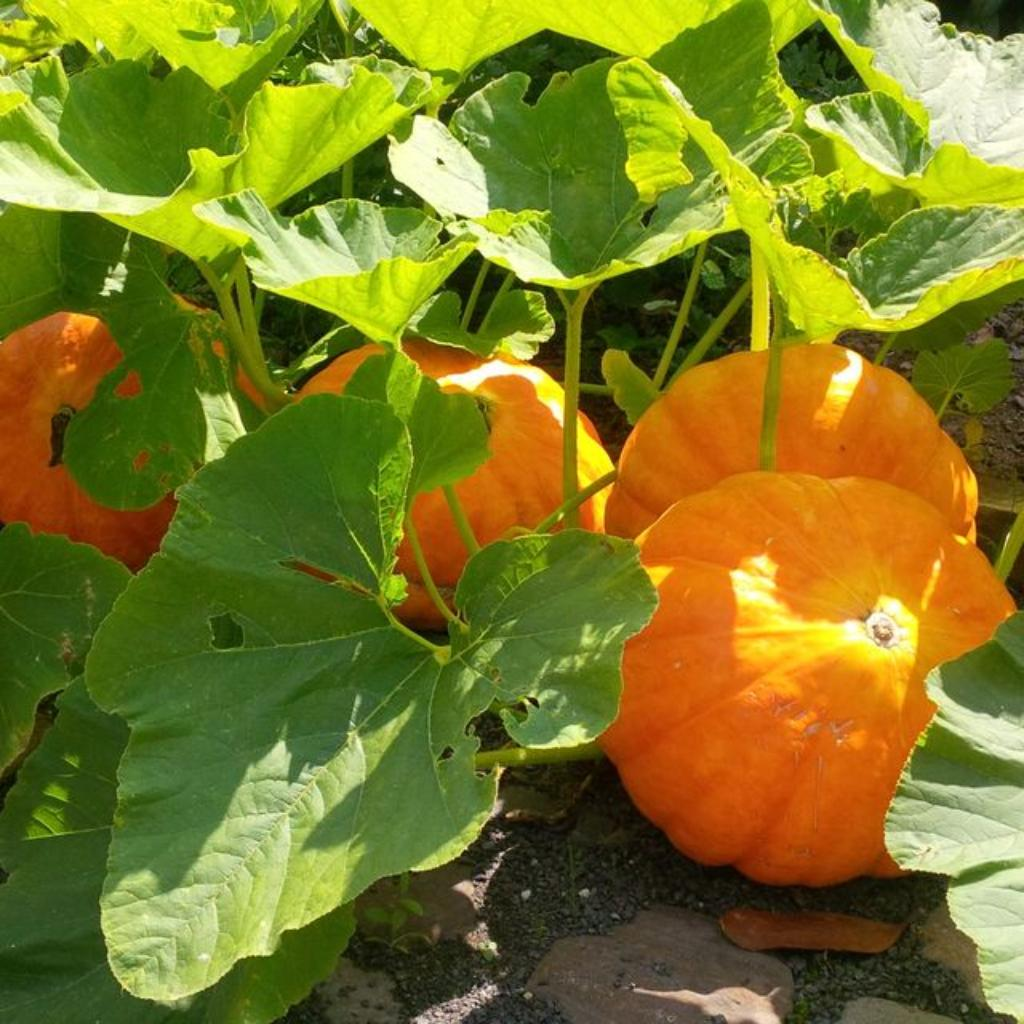pumpkin: (602, 472, 1014, 885), (0, 312, 176, 569), (776, 344, 976, 537), (404, 338, 562, 543), (606, 350, 767, 537), (412, 488, 468, 587), (304, 344, 384, 397), (398, 540, 444, 627), (578, 414, 612, 485)
